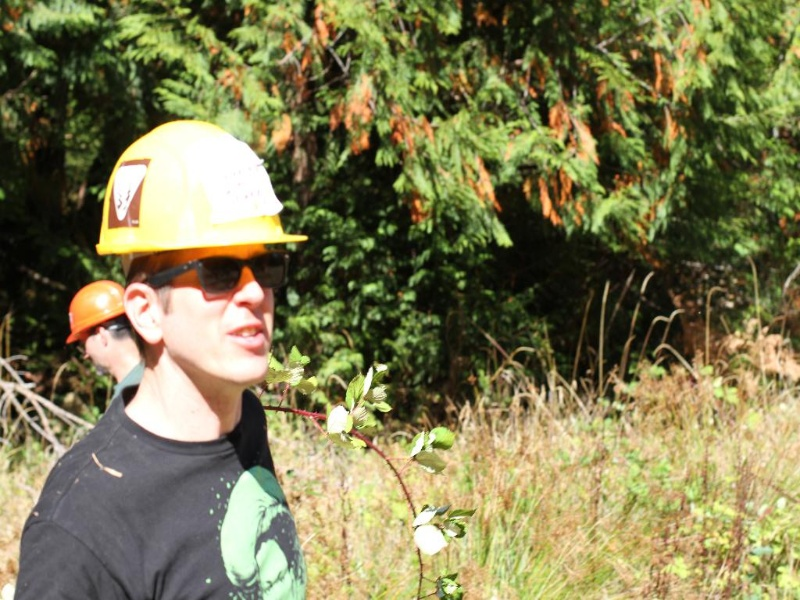Baret: (93, 120, 311, 257), (66, 279, 127, 346)
